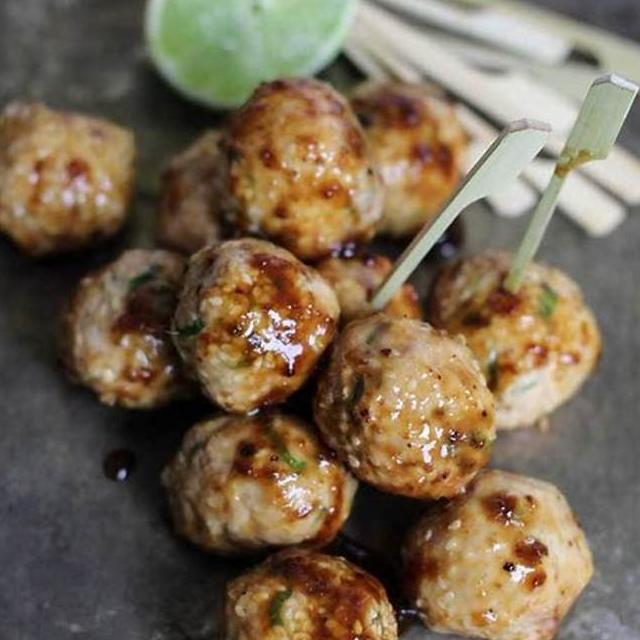food_waste: (103, 93, 477, 640)
